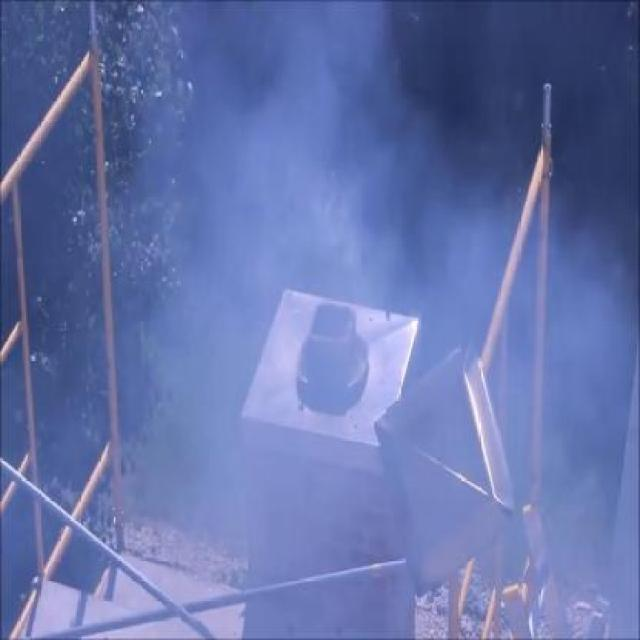smoke: (202, 26, 438, 263), (182, 350, 262, 510), (564, 243, 622, 440)
